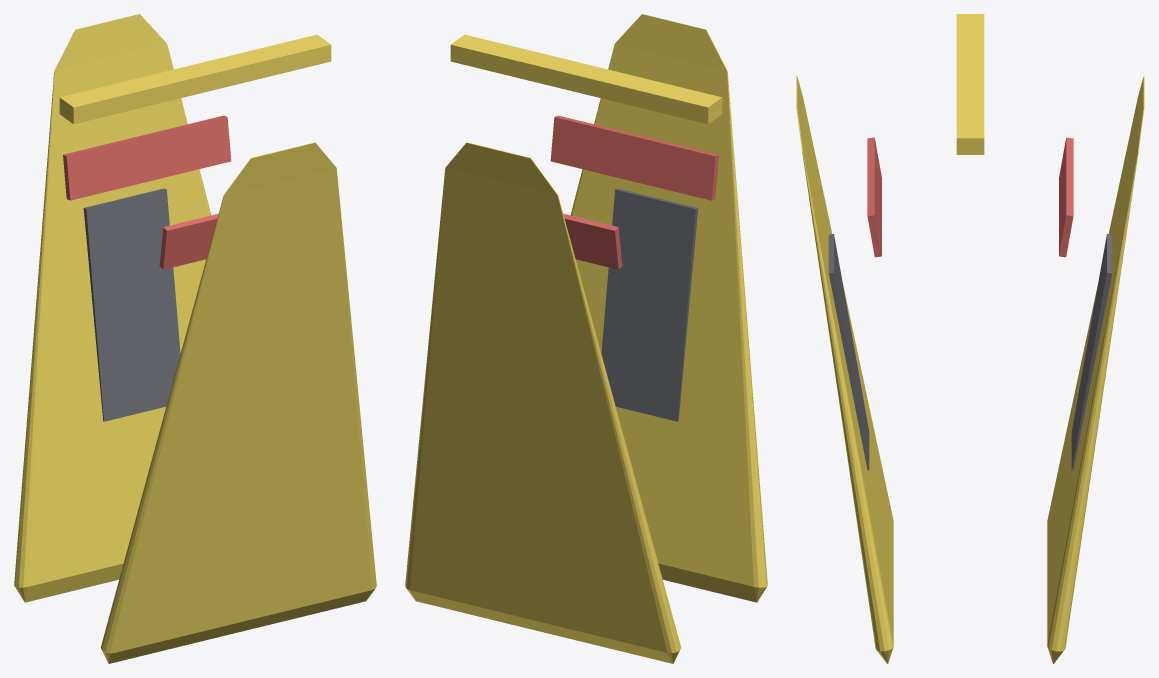
Rendered from public-swimming-baths-and-poolside-wet-floor-sign-775645f0__35259.glb.
The picture shows the model from 3 angles, left to right: view 1: azimuth 30°, elevation 25°; view 2: azimuth 150°, elevation 25°; view 3: azimuth 270°, elevation 25°; orthographic projection.
Parts seen in each view (by area): view 1: wet-floor-sign; view 2: wet-floor-sign; view 3: wet-floor-sign.
Part boxes in pixels (x1,y1,x2,y2): wet-floor-sign: (14,14,376,663); wet-floor-sign: (405,14,767,663); wet-floor-sign: (796,14,1144,663).
Size of the model in its own units: 0.34 by 0.6301 by 0.3785.
